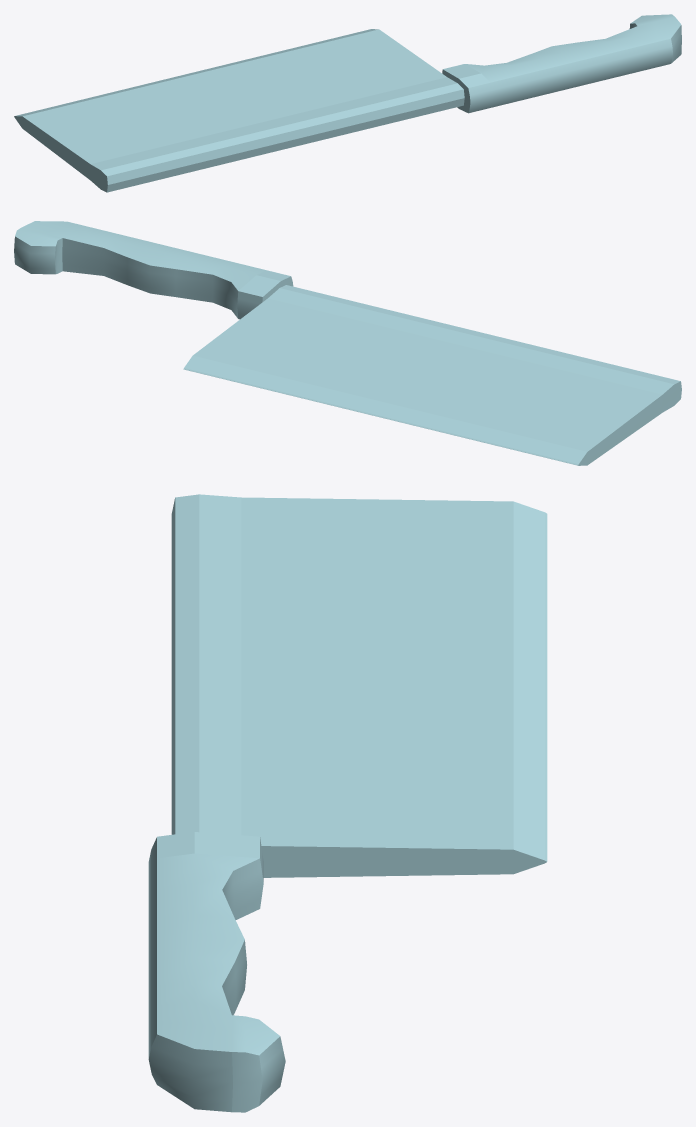
Rendered from Cuchillo_001.fbx.
3 renders of one model, top to bottom at view 1: azimuth 30°, elevation 25°; view 2: azimuth 150°, elevation 25°; view 3: azimuth 270°, elevation 25°, orthographic. The views are drawn at different scales.
Visible parts, largest first — view 1: Cuchillo_001; view 2: Cuchillo_001; view 3: Cuchillo_001.
Boxes of the visible parts, left/top/right/bottom form: Cuchillo_001: left=14, top=14, right=681, bottom=192; Cuchillo_001: left=14, top=221, right=681, bottom=465; Cuchillo_001: left=148, top=494, right=547, bottom=1112.
Bounding box in the file's own units: 0.0161 × 0.000797 × 0.00478.
